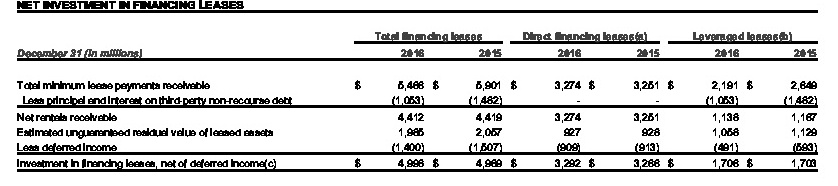table: (0, 0, 838, 186)
